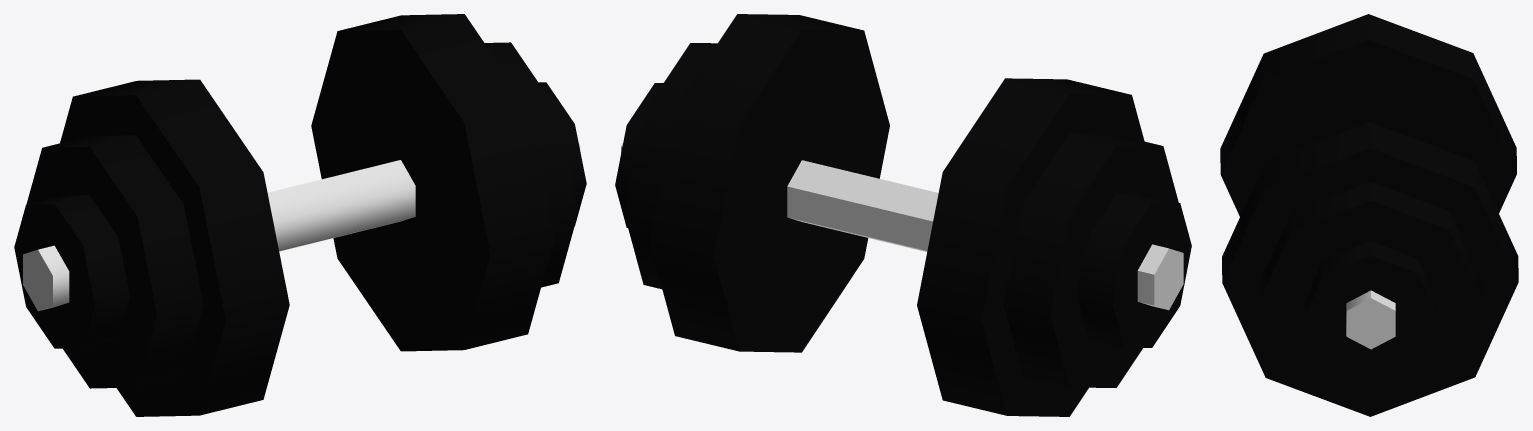
The model's file is Furniture_Dumbbell_Heavy.fbx.
The picture shows the model from 3 angles, left to right: view 1: azimuth 30°, elevation 25°; view 2: azimuth 150°, elevation 25°; view 3: azimuth 270°, elevation 25°; orthographic projection. The views are drawn at different scales.
Parts seen in each view (by area): view 1: dumbbell_002; view 2: dumbbell_002; view 3: dumbbell_002.
Part boxes in pixels (left/top/right/bottom): dumbbell_002: left=14, top=14, right=586, bottom=416; dumbbell_002: left=615, top=14, right=1191, bottom=416; dumbbell_002: left=1220, top=14, right=1518, bottom=416.
Size of the model in its own units: 70.74 by 41.06 by 41.33.
